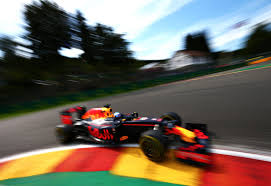FormulaOneCar: (52, 100, 222, 170)
